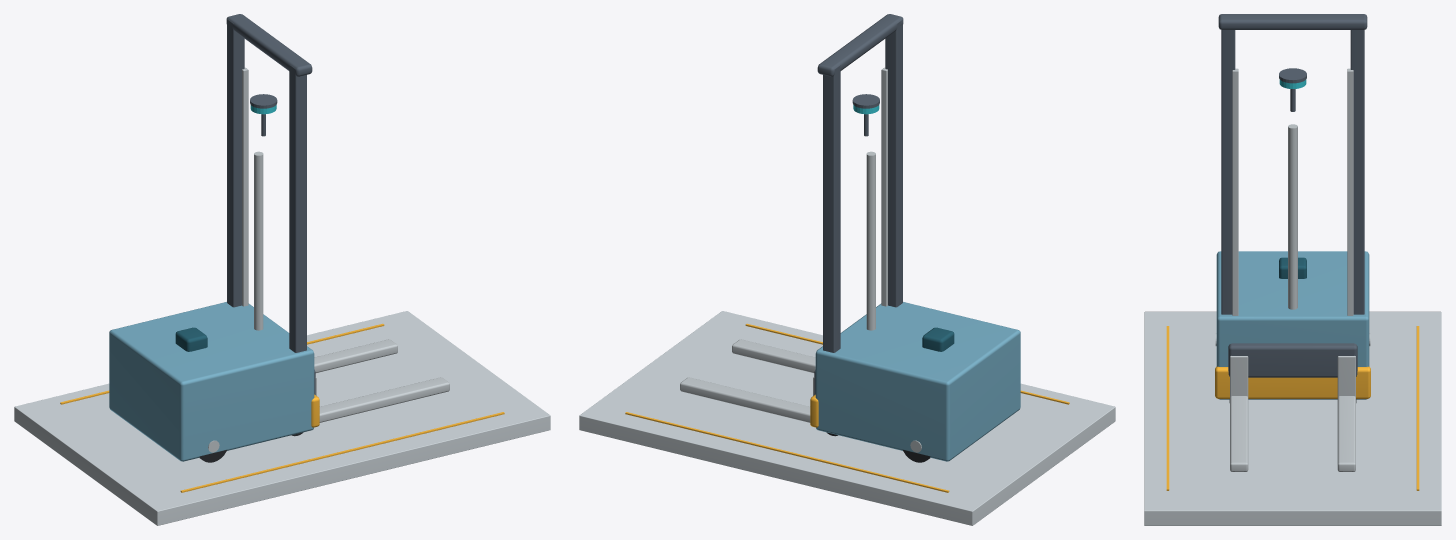
The picture shows the model from 3 angles, left to right: view 1: azimuth 30°, elevation 25°; view 2: azimuth 150°, elevation 25°; view 3: azimuth 270°, elevation 25°; orthographic projection. The views are drawn at different scales.
Visible parts, largest first — view 1: Ground plane, Power unit, Lift mast outer rail, Lift mast outer rail.001, Fork tine / pallet handling, Hydraulic lift cylinder, Mast crosshead, Lift mast inner rail.001, Fork tine / pallet handling.001, Concept clearance guide, Operator display; view 2: Ground plane, Power unit, Lift mast outer rail.001, Lift mast outer rail, Fork tine / pallet handling.001, Hydraulic lift cylinder, Mast crosshead, Lift mast inner rail, Fork tine / pallet handling, Concept clearance guide.001, Operator display; view 3: Ground plane, Power unit, Fork carriage, Lift mast outer rail, Lift mast outer rail.001, Front safety bumper, Mast crosshead, Hydraulic lift cylinder, Lift mast inner rail, Lift mast inner rail.001, Fork tine / pallet handling, Fork tine / pallet handling.001 (+6 smaller).
Part boxes in pixels (x1,y1,x2,y2): Ground plane: (14, 311, 550, 525); Power unit: (109, 302, 314, 461); Lift mast outer rail: (289, 65, 306, 352); Lift mast outer rail.001: (227, 19, 244, 307); Fork tine / pallet handling: (319, 377, 449, 422); Hydraulic lift cylinder: (254, 151, 263, 330); Mast crosshead: (226, 14, 312, 76); Lift mast inner rail.001: (242, 67, 248, 306); Fork tine / pallet handling.001: (314, 339, 397, 372); Concept clearance guide: (180, 412, 504, 492); Operator display: (175, 327, 207, 351); Ground plane: (579, 311, 1115, 525); Power unit: (815, 302, 1020, 461); Lift mast outer rail.001: (823, 65, 840, 352); Lift mast outer rail: (885, 19, 902, 307); Fork tine / pallet handling.001: (680, 377, 810, 422); Hydraulic lift cylinder: (866, 151, 875, 330); Mast crosshead: (817, 14, 903, 76); Lift mast inner rail: (881, 67, 887, 306); Fork tine / pallet handling: (732, 339, 815, 372); Concept clearance guide.001: (625, 412, 949, 492); Operator display: (922, 327, 954, 351); Ground plane: (1144, 311, 1441, 525); Power unit: (1216, 251, 1369, 399); Fork carriage: (1228, 343, 1357, 377); Lift mast outer rail: (1221, 30, 1235, 314); Lift mast outer rail.001: (1350, 30, 1364, 314); Front safety bumper: (1215, 366, 1370, 398); Mast crosshead: (1218, 14, 1367, 29); Hydraulic lift cylinder: (1288, 124, 1297, 309); Lift mast inner rail: (1232, 68, 1238, 315); Lift mast inner rail.001: (1347, 68, 1353, 315); Fork tine / pallet handling: (1230, 396, 1248, 471); Fork tine / pallet handling.001: (1337, 396, 1355, 471).
Bounding box in the file's own units: 3.34 × 3.15 × 2.1.
